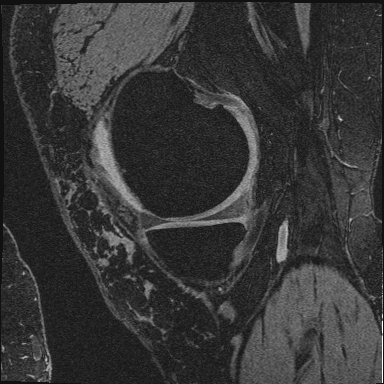effusion: (93, 128, 115, 179)
